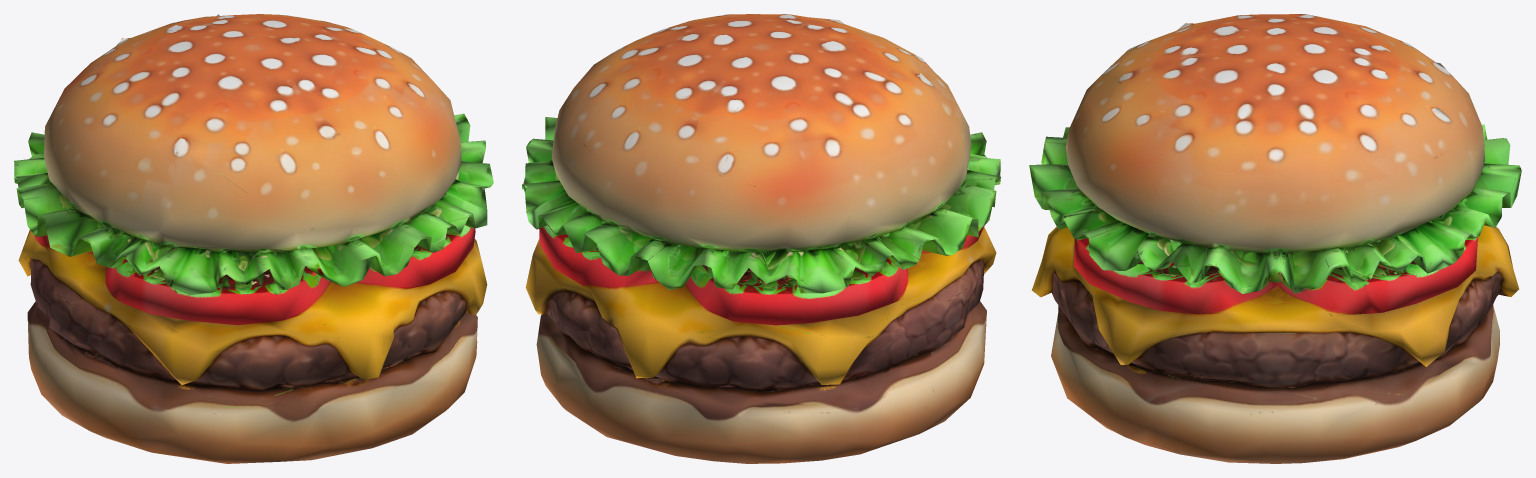
File: burger.glb
3 renders of one model, left to right at view 1: azimuth 30°, elevation 25°; view 2: azimuth 150°, elevation 25°; view 3: azimuth 270°, elevation 25°, orthographic.
Visible parts, largest first — view 1: Mesh1.0_Material.001_0; view 2: Mesh1.0_Material.001_0; view 3: Mesh1.0_Material.001_0.
Part boxes in pixels (x1,y1,x2,y2): Mesh1.0_Material.001_0: (14, 14, 493, 463); Mesh1.0_Material.001_0: (522, 14, 1000, 463); Mesh1.0_Material.001_0: (1029, 14, 1521, 463).
Size of the model in its own units: 1.93 by 1.48 by 1.93.
Materials: 1 (1 with a texture image).
